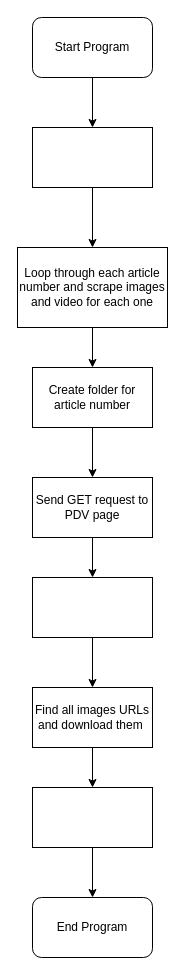
The diagram is 185 pixels wide and 975 high, and some of its shapes have lost their labels. Here are the shapes that lost their labels. From the top down, the centre of each, then its label:
At point (92, 157): "Read Excel File".
At point (92, 607): "Parse HTML with Beautiful Soup".
At point (92, 817): "Repeat for next article number in the list".
